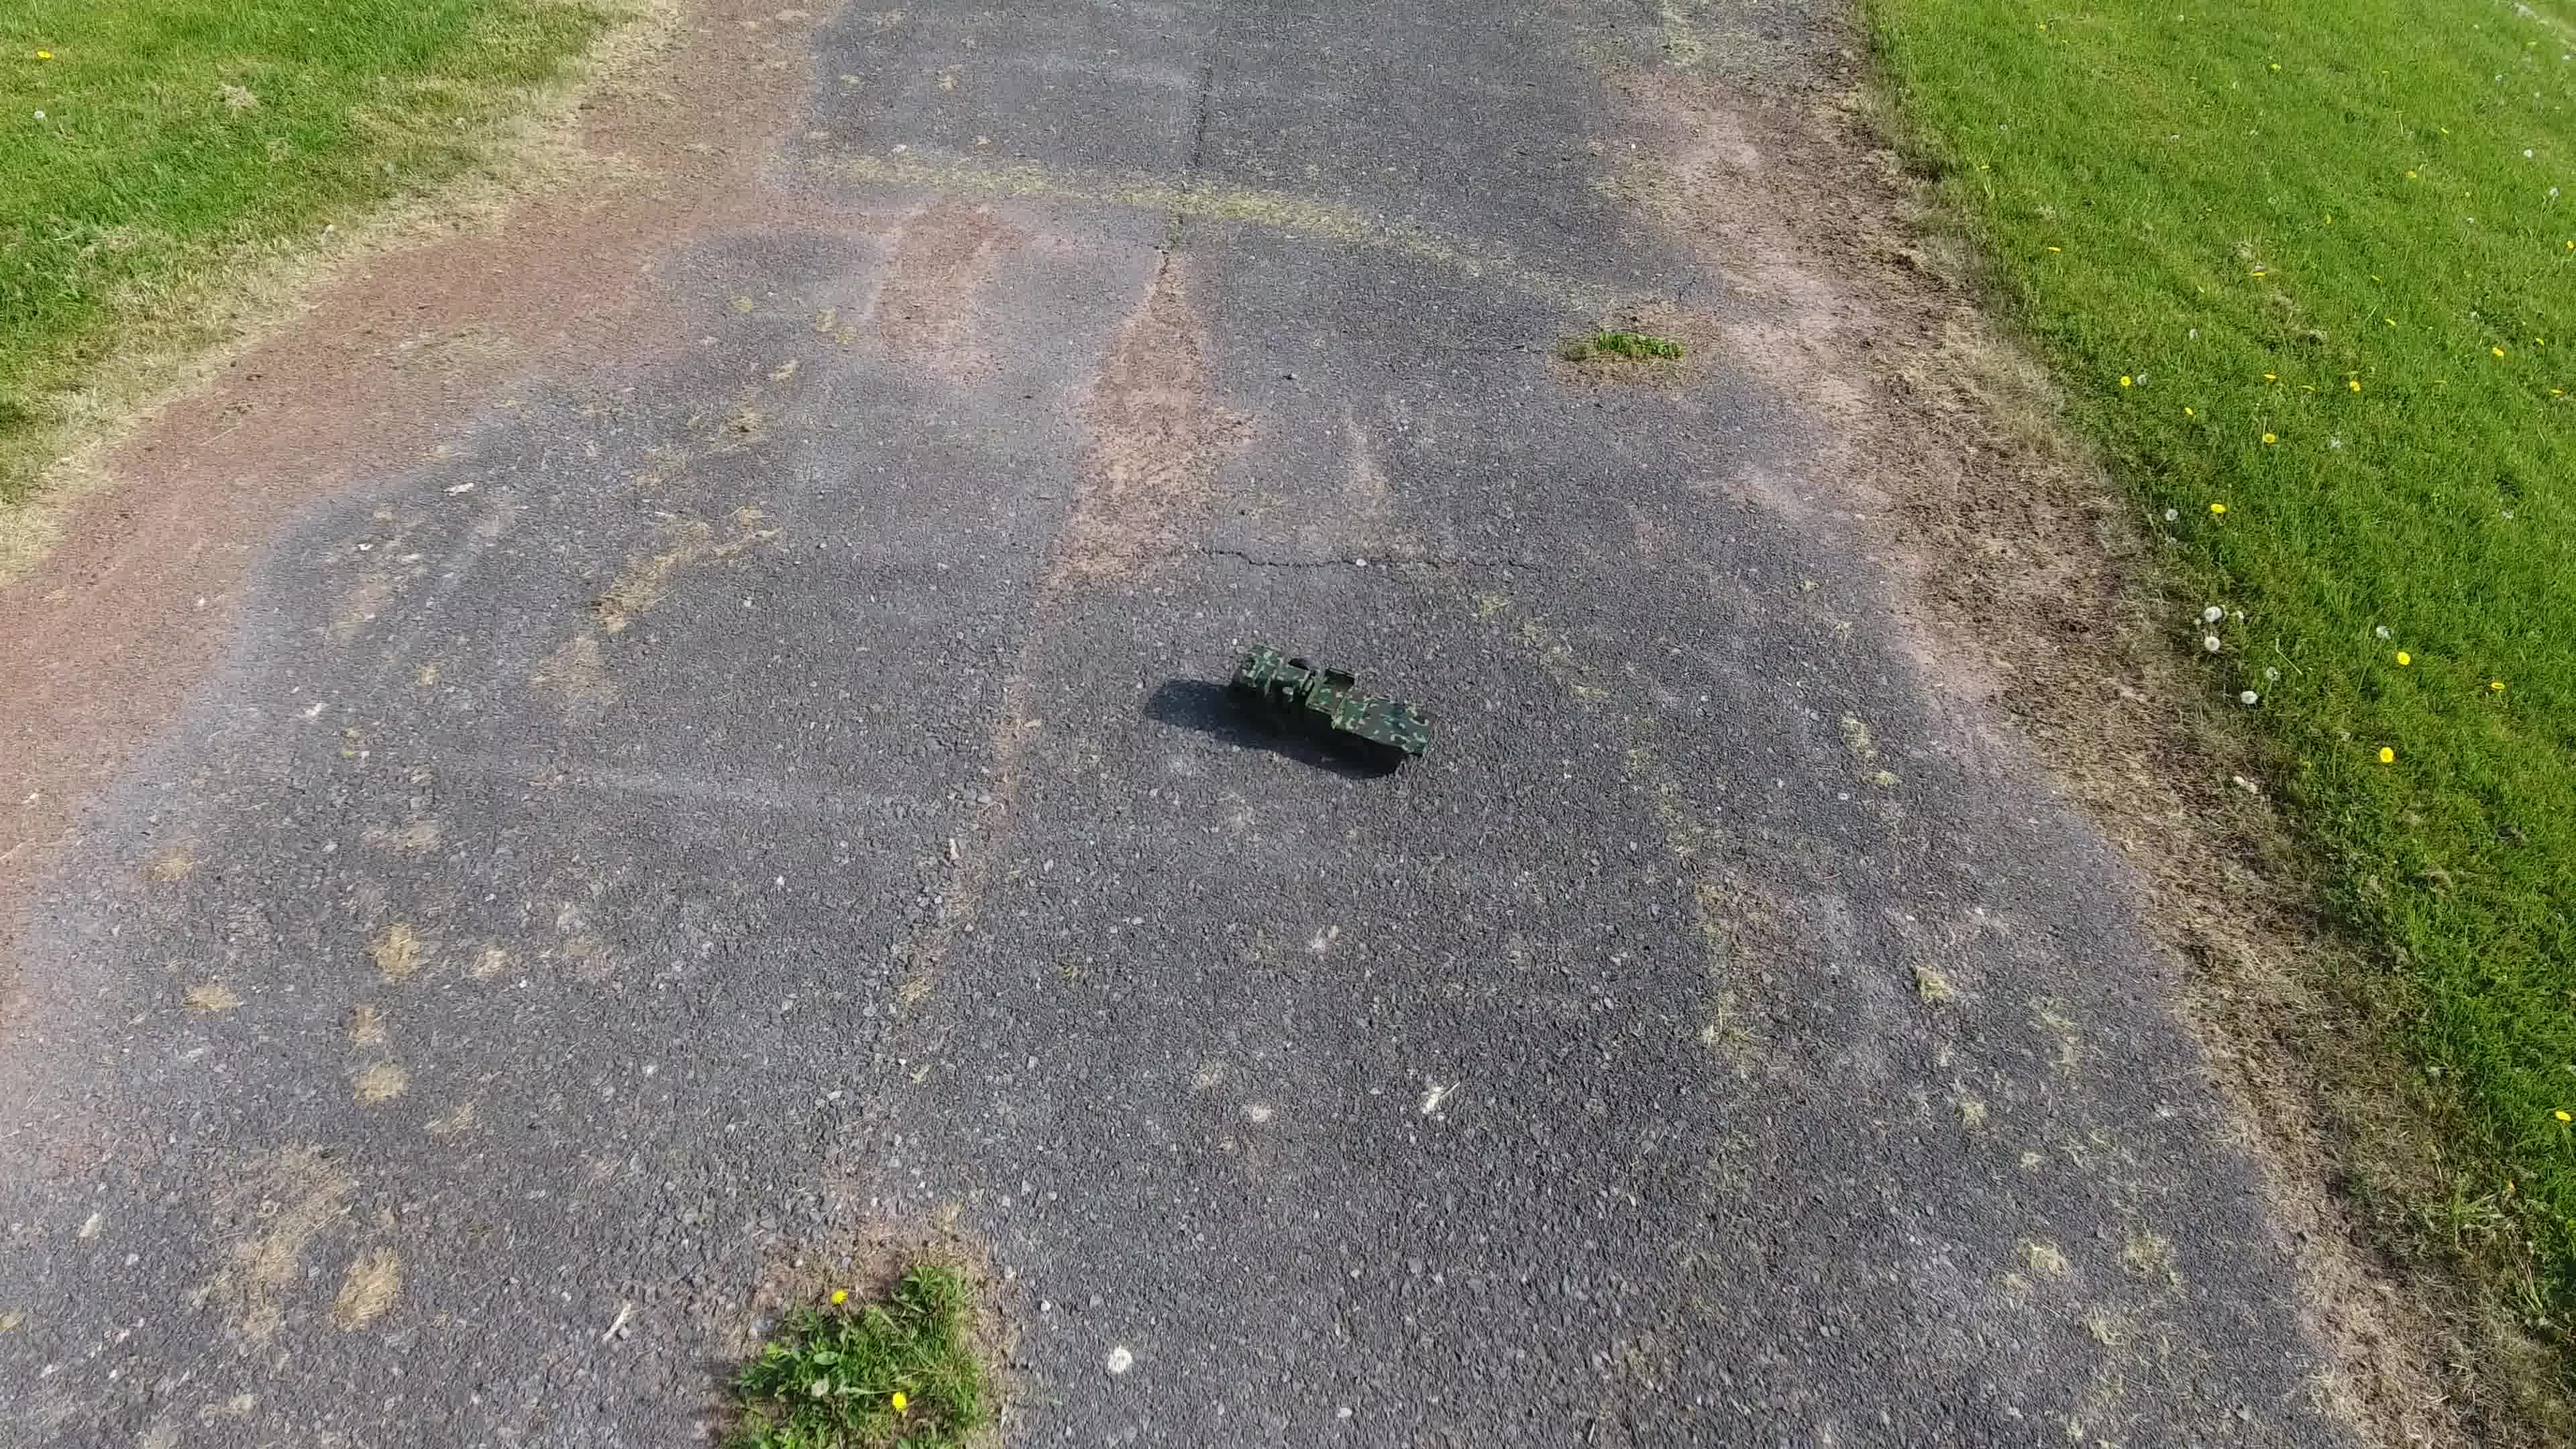transporter9_camo: (1224, 640, 1445, 771)
